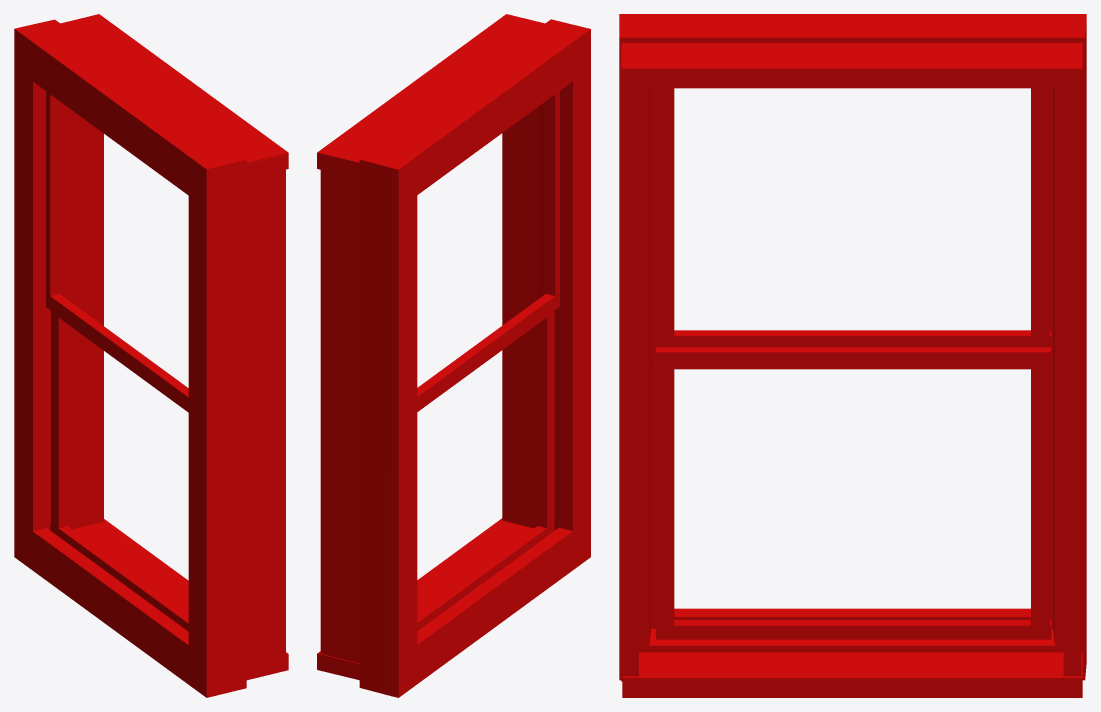
File: Window_A_01B_Lod0.fbx
3 views of the same model, side by side, from view 1: azimuth 30°, elevation 25°; view 2: azimuth 150°, elevation 25°; view 3: azimuth 270°, elevation 25° (orthographic). The views are drawn at different scales.
Visible parts, largest first — view 1: Window_A_01B_Lod0; view 2: Window_A_01B_Lod0; view 3: Window_A_01B_Lod0.
Boxes of the visible parts, bbox=[...] form: Window_A_01B_Lod0: bbox=[14, 14, 288, 697]; Window_A_01B_Lod0: bbox=[317, 14, 590, 697]; Window_A_01B_Lod0: bbox=[619, 14, 1086, 697].
Size of the model in its own units: 22.84 by 139 by 91.49.
